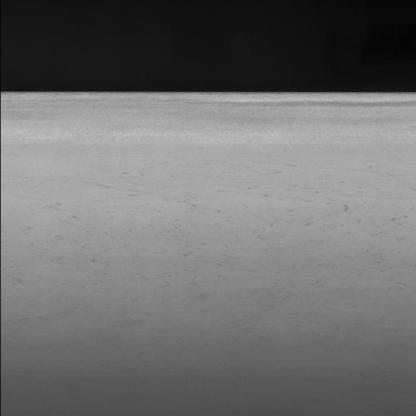silk_spot: (79, 154, 416, 284)
